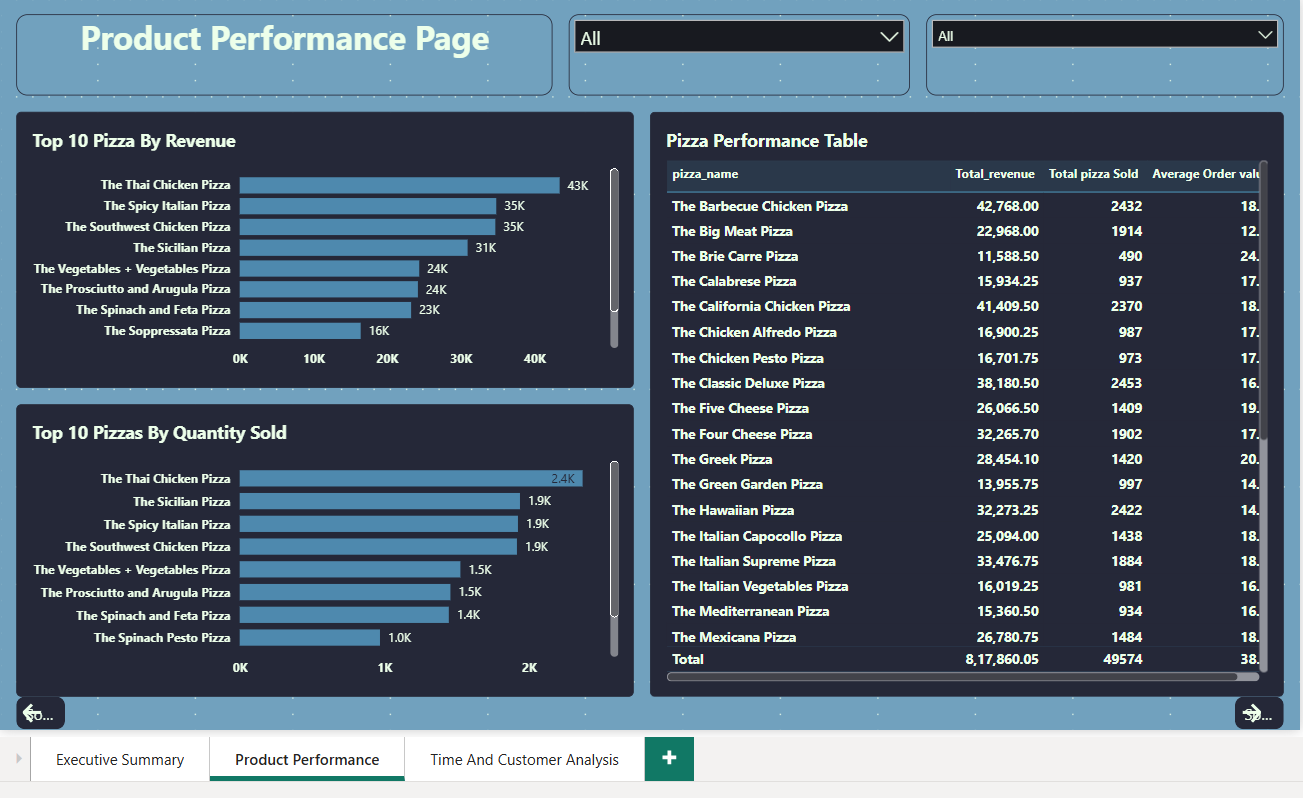

The dashboard page shown, as its layout file describes it:
{"tool":"powerbi","page":{"name":"Product Performance","canvas":[1280,720],"ordinal":1},"visuals":[{"type":"textbox","box":[16,16,528,80],"z":0},{"type":"barChart","title":"Top 10 Pizza By Revenue","fields":{"Category":["pizza_sales.pizza_name"],"Y":["pizza_sales.Total_revenue"]},"box":[16,112,608,272],"z":1000},{"type":"barChart","title":"Top 10 Pizzas By Quantity Sold","fields":{"Category":["pizza_sales.pizza_name"],"Y":["Sum(pizza_sales.quantity)"]},"box":[16,400,608,288],"z":2000},{"type":"tableEx","title":"Pizza Performance Table","fields":{"Values":["pizza_sales.pizza_name","pizza_sales.Total_revenue","pizza_sales.Total pizza Sold","pizza_sales.Average Order value"]},"box":[640,112,624,576],"z":3000},{"type":"slicer","fields":{"Values":["pizza_sales.pizza_category"]},"box":[560,16,336,80],"z":4000},{"type":"slicer","fields":{"Values":["pizza_sales.pizza_size"]},"box":[912,16,352,80],"z":5000},{"type":"actionButton","box":[1216,688,48,32],"z":6000},{"type":"actionButton","box":[16,688,48,32],"z":7000}]}

Visuals, with their boxes on the page's 1280x720 design canvas (x1, y1, x2, y2). These are canvas units, not pixel positions in the 1303x798 screenshot, which may show the page scaled, cropped or inside an application window:
textbox: {"left": 16, "top": 16, "right": 544, "bottom": 96}
"Top 10 Pizza By Revenue" barChart: {"left": 16, "top": 112, "right": 624, "bottom": 384}
"Top 10 Pizzas By Quantity Sold" barChart: {"left": 16, "top": 400, "right": 624, "bottom": 688}
"Pizza Performance Table" tableEx: {"left": 640, "top": 112, "right": 1264, "bottom": 688}
slicer - pizza_sales.pizza_category: {"left": 560, "top": 16, "right": 896, "bottom": 96}
slicer - pizza_sales.pizza_size: {"left": 912, "top": 16, "right": 1264, "bottom": 96}
actionButton: {"left": 1216, "top": 688, "right": 1264, "bottom": 720}
actionButton: {"left": 16, "top": 688, "right": 64, "bottom": 720}
